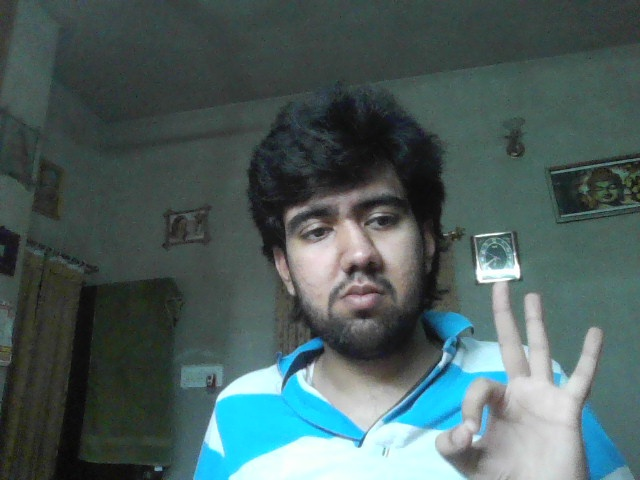Nice: (436, 281, 603, 478)
